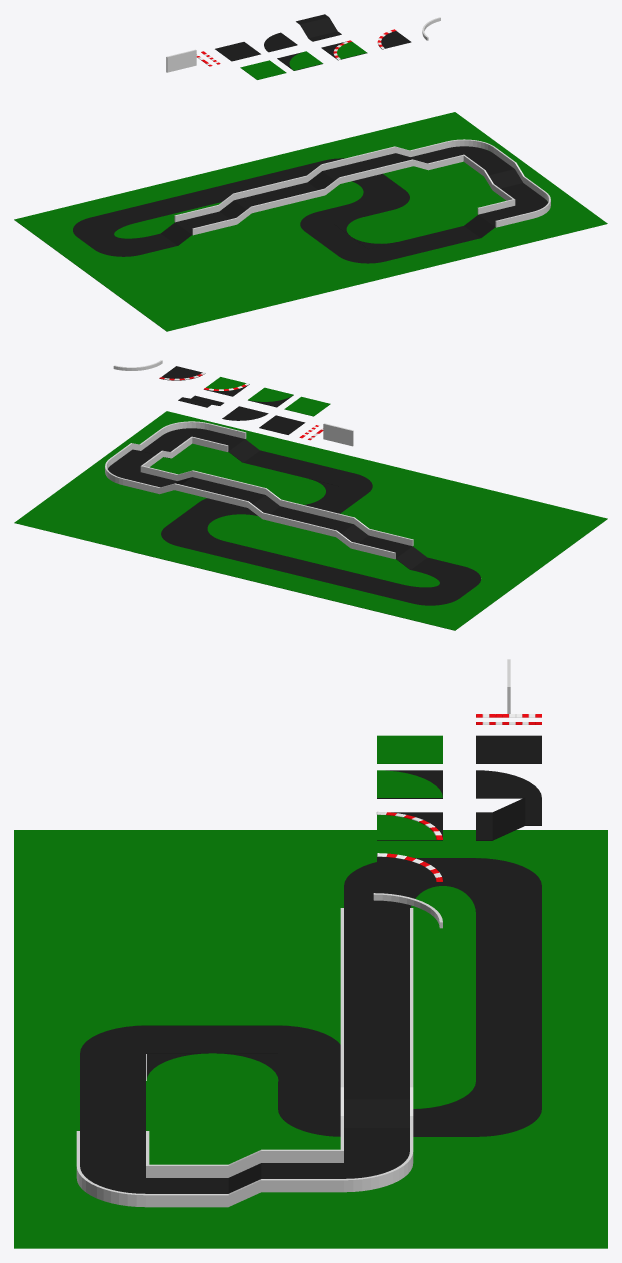
Rendered from banana kart track finished NO KERBS.fbx.
3 renders of one model, top to bottom at view 1: azimuth 30°, elevation 25°; view 2: azimuth 150°, elevation 25°; view 3: azimuth 270°, elevation 25°, orthographic. The views are drawn at different scales.
Parts seen in each view (by area): view 1: Cube.065, Cube.064, Cube.055, Cube.066, Cube.061, Cube.062, Cube.048, Cube.060, Cube.033, Cube.074, Cube.073, Cube.063 (+26 smaller); view 2: Cube.065, Cube.064, Cube.055, Cube.066, Cube.048, Cube.061, Cube.051, Cube.062, Cube.060, Cube.033, Cube.074, Cube.073 (+31 smaller); view 3: Cube.065, Cube.064, Cube.055, Cube.061, Cube.066, Cube.048, Cube.062, Cube.051, Cube.033, Cube.012, Cube.040, Cube.044 (+37 smaller).
Boxes of the visible parts, box(x1,y1,x2,y2) form: Cube.065: box(111, 219, 372, 324); Cube.064: box(338, 112, 539, 202); Cube.055: box(44, 140, 353, 224); Cube.066: box(14, 212, 195, 331); Cube.061: box(364, 174, 573, 241); Cube.062: box(356, 211, 607, 281); Cube.048: box(90, 160, 327, 229); Cube.060: box(179, 192, 346, 245); Cube.033: box(368, 227, 472, 261); Cube.074: box(233, 175, 325, 213); Cube.073: box(322, 146, 413, 183); Cube.063: box(482, 199, 590, 237); Cube.065: box(340, 468, 578, 573); Cube.064: box(14, 461, 204, 551); Cube.055: box(131, 539, 441, 623); Cube.066: box(426, 511, 607, 630); Cube.048: box(178, 534, 429, 603); Cube.061: box(99, 436, 308, 499); Cube.051: box(224, 528, 417, 583); Cube.062: box(150, 411, 401, 480); Cube.060: box(242, 516, 409, 569); Cube.033: box(251, 452, 355, 486); Cube.074: box(262, 499, 354, 536); Cube.073: box(174, 470, 266, 507); Cube.065: box(14, 858, 343, 1025); Cube.064: box(278, 1137, 607, 1248); Cube.055: box(542, 858, 607, 1136); Cube.061: box(146, 1081, 277, 1248); Cube.066: box(14, 830, 607, 857); Cube.048: box(476, 886, 541, 1109); Cube.062: box(14, 1025, 79, 1248); Cube.051: box(413, 913, 475, 1080); Cube.033: box(80, 1053, 145, 1136); Cube.012: box(146, 1025, 277, 1053); Cube.040: box(344, 1036, 409, 1092); Cube.044: box(344, 967, 409, 1023).
Size of the model in its own units: 30000 by 9777 by 18000.
